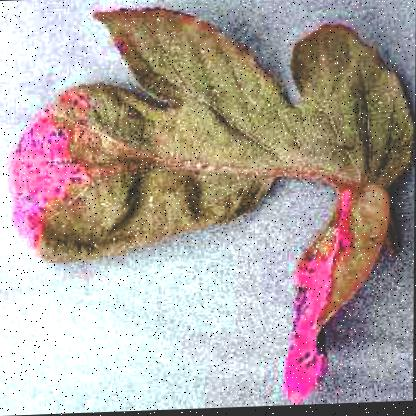BACTERIAL SPOT: (4, 0, 414, 414)
